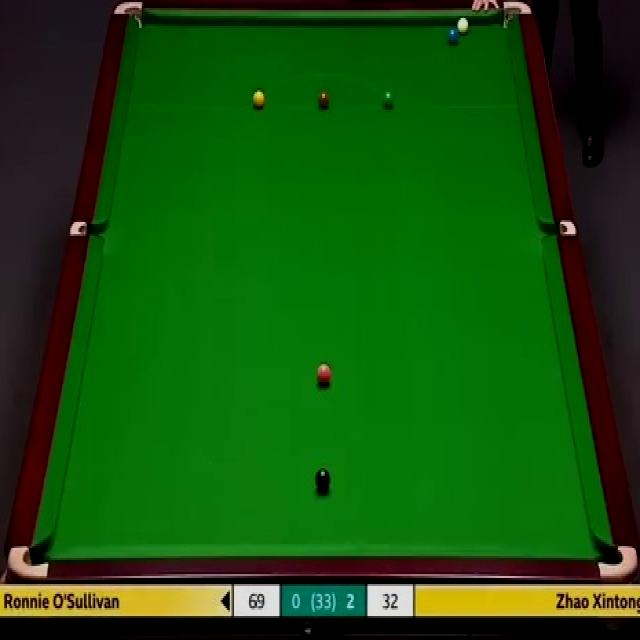black-ball: (315, 467, 331, 493)
blue-ball: (447, 28, 460, 46)
brown-ball: (317, 92, 330, 109)
green-ball: (382, 88, 396, 112)
pink-ball: (316, 362, 332, 389)
white-ball: (458, 16, 470, 34)
yellow-ball: (252, 89, 266, 110)
